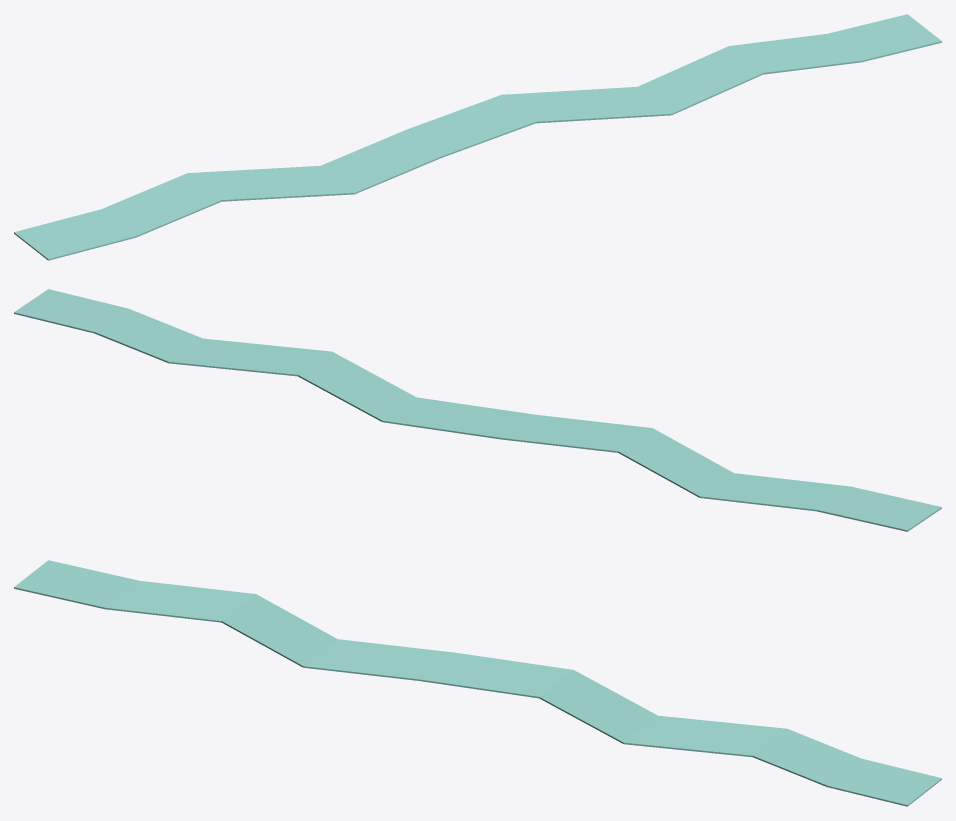
3 views of the same model, one above another, from view 1: azimuth 30°, elevation 25°; view 2: azimuth 150°, elevation 25°; view 3: azimuth 330°, elevation 25° (orthographic).
Parts seen in each view (by area): view 1: 浅水纸层.001; view 2: 浅水纸层.001; view 3: 浅水纸层.001.
Boxes of the visible parts, x1,y1,x2,y2 form: 浅水纸层.001: [14, 14, 941, 260]; 浅水纸层.001: [14, 289, 941, 531]; 浅水纸层.001: [14, 560, 941, 806].
Bounding box in the file's own units: 3 × 0.011 × 0.36.
